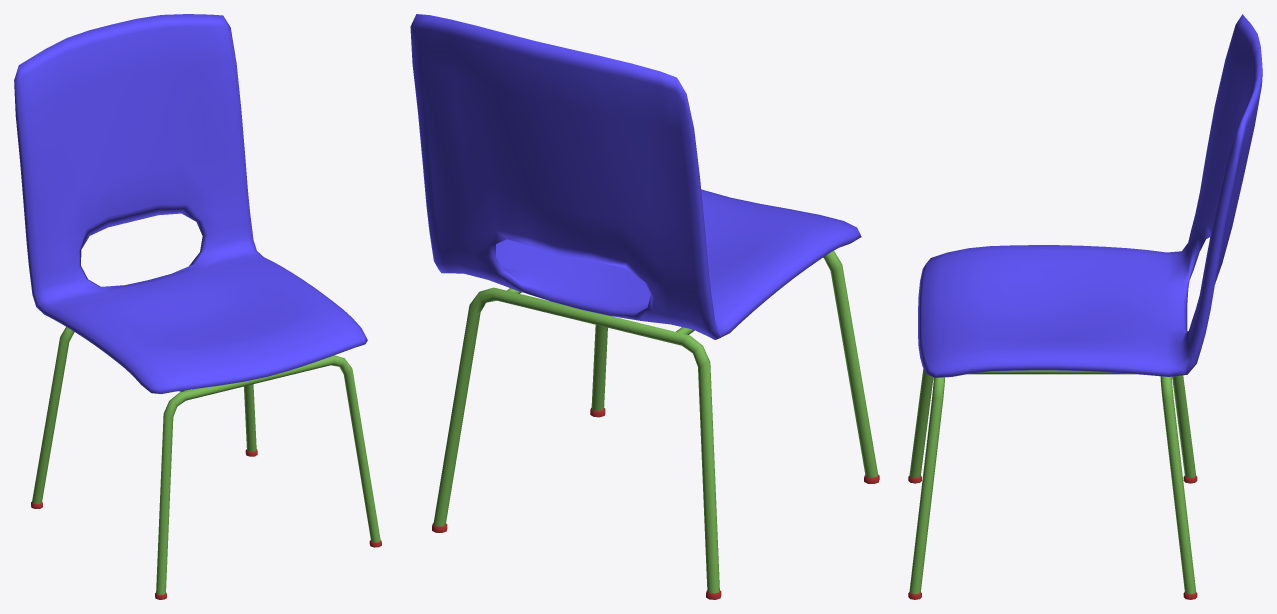
Rendered from Chair_01.FBX.
The picture shows the model from 3 angles, left to right: view 1: azimuth 30°, elevation 25°; view 2: azimuth 150°, elevation 25°; view 3: azimuth 270°, elevation 25°; orthographic projection. The views are drawn at different scales.
Visible parts, largest first — view 1: Chair_01; view 2: Chair_01; view 3: Chair_01.
Part boxes in pixels (x1,y1,x2,y2): Chair_01: (14, 14, 381, 599); Chair_01: (410, 14, 879, 599); Chair_01: (908, 14, 1262, 599).
Size of the model in its own units: 0.5111 by 0.9369 by 0.6265.
